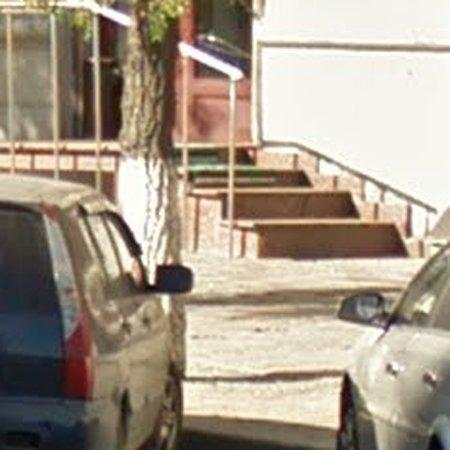stairs: (232, 165, 409, 260), (188, 166, 228, 256)
